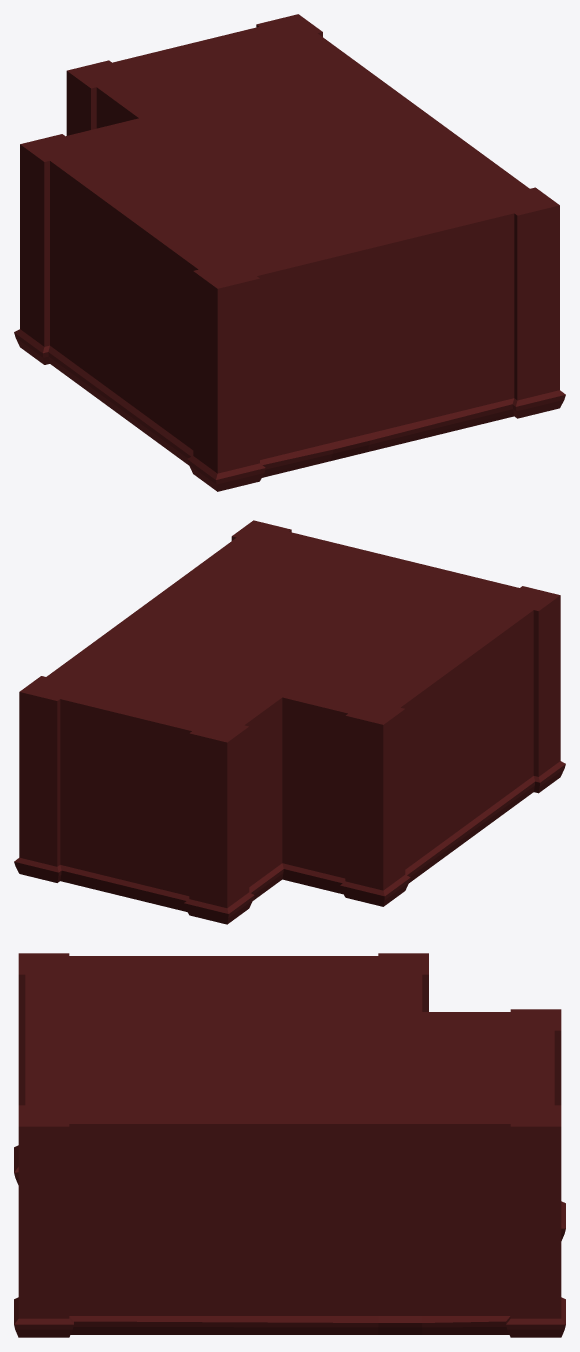
Rendered from enter_mid_1.glb.
The picture shows the model from 3 angles, top to bottom: view 1: azimuth 30°, elevation 25°; view 2: azimuth 150°, elevation 25°; view 3: azimuth 270°, elevation 25°; orthographic projection. The views are drawn at different scales.
Parts seen in each view (by area): view 1: enter_mid_1; view 2: enter_mid_1; view 3: enter_mid_1.
Part boxes in pixels (x1=…): enter_mid_1: x1=14, y1=14, x2=565, y2=491; enter_mid_1: x1=14, y1=520, x2=565, y2=924; enter_mid_1: x1=14, y1=953, x2=565, y2=1337.
Size of the model in its own units: 7.93 by 4.39 by 10.42.
